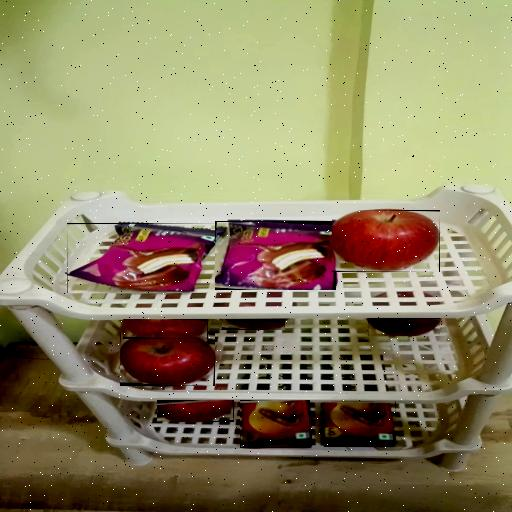Apple: (332, 210, 440, 272), (120, 332, 215, 386), (123, 319, 208, 339), (157, 400, 234, 422), (368, 318, 440, 336), (220, 319, 284, 330)
Choco Fills: (240, 400, 310, 448), (324, 401, 396, 447)
Choco Pie: (67, 223, 225, 293), (215, 221, 336, 290)
